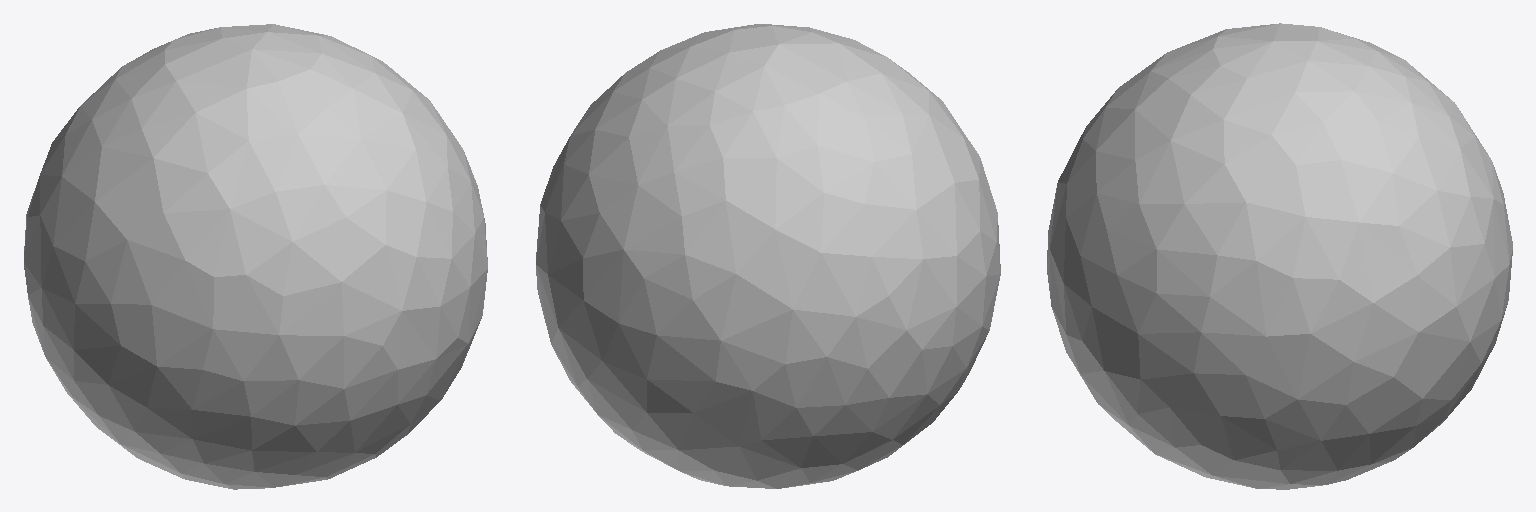
File: invertedSphere.obj
The picture shows the model from 3 angles: view 1: azimuth 30°, elevation 25°; view 2: azimuth 150°, elevation 25°; view 3: azimuth 270°, elevation 25°; orthographic projection.
Parts seen in each view (by area): view 1: Quad_Sphere.001; view 2: Quad_Sphere.001; view 3: Quad_Sphere.001.
Part boxes in pixels (x1,y1,x2,y2): Quad_Sphere.001: (24,24,487,489); Quad_Sphere.001: (536,24,1000,488); Quad_Sphere.001: (1047,23,1512,489).
Size of the model in its own units: 2.57 by 2.57 by 2.58.